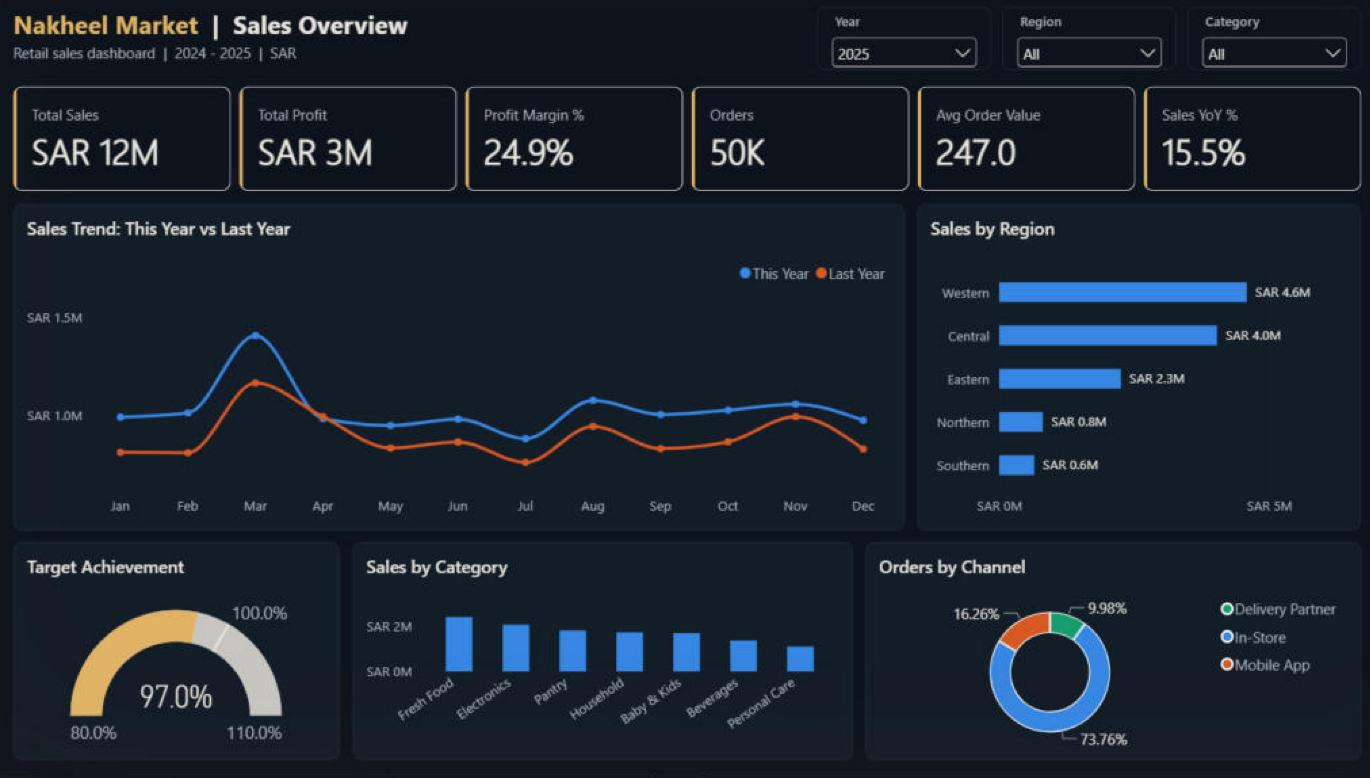

What the dashboard file says about the page in this screenshot:
{"tool":"powerbi","page":{"name":"Overview","canvas":[1280,720],"ordinal":0},"visuals":[{"type":"textbox","box":[20,10,640,34],"z":1000},{"type":"textbox","box":[20,42,700,22],"z":2000},{"type":"slicer","fields":{"Values":["DimDate.Year"]},"box":[760,10,160,58],"z":3000},{"type":"slicer","fields":{"Values":["DimBranch.Region"]},"box":[930,10,160,58],"z":4000},{"type":"slicer","fields":{"Values":["DimProduct.Category"]},"box":[1100,10,160,58],"z":5000},{"type":"cardVisual","fields":{"Data":["_Measures.Total Sales","_Measures.Total Profit","_Measures.Profit Margin %","_Measures.Orders","_Measures.Avg Order Value","_Measures.Sales YoY %"]},"box":[20,82,1240,96],"z":6000},{"type":"lineChart","title":"Sales Trend: This Year vs Last Year","fields":{"Category":["DimDate.MonthName"],"Y":["_Measures.Total Sales","_Measures.Sales LY"]},"box":[20,190,820,300],"z":7000},{"type":"clusteredBarChart","title":"Sales by Region","fields":{"Category":["DimBranch.Region"],"Y":["_Measures.Total Sales"]},"box":[852,190,408,300],"z":8000},{"type":"gauge","title":"Target Achievement","fields":{"Y":["_Measures.Target Achievement %"]},"box":[20,502,300,200],"z":9000},{"type":"clusteredColumnChart","title":"Sales by Category","fields":{"Category":["DimProduct.Category"],"Y":["_Measures.Total Sales"]},"box":[332,502,460,200],"z":10000},{"type":"donutChart","title":"Orders by Channel","fields":{"Category":["FactSales.Channel"],"Y":["_Measures.Orders"]},"box":[804,502,456,200],"z":11000}]}

Visuals, with their boxes in screenshot pixels (x1, y1, x2, y2), scaled from the page's 1280x720 canvas onto the 1370x778 screenshot:
textbox: [x1=21, y1=11, x2=706, y2=48]
textbox: [x1=21, y1=45, x2=771, y2=69]
slicer - DimDate.Year: [x1=813, y1=11, x2=985, y2=73]
slicer - DimBranch.Region: [x1=995, y1=11, x2=1167, y2=73]
slicer - DimProduct.Category: [x1=1177, y1=11, x2=1349, y2=73]
cardVisual - _Measures.Total Sales x _Measures.Total Profit: [x1=21, y1=89, x2=1349, y2=192]
"Sales Trend: This Year vs Last Year" lineChart: [x1=21, y1=205, x2=899, y2=529]
"Sales by Region" clusteredBarChart: [x1=912, y1=205, x2=1349, y2=529]
"Target Achievement" gauge: [x1=21, y1=542, x2=342, y2=759]
"Sales by Category" clusteredColumnChart: [x1=355, y1=542, x2=848, y2=759]
"Orders by Channel" donutChart: [x1=861, y1=542, x2=1349, y2=759]
